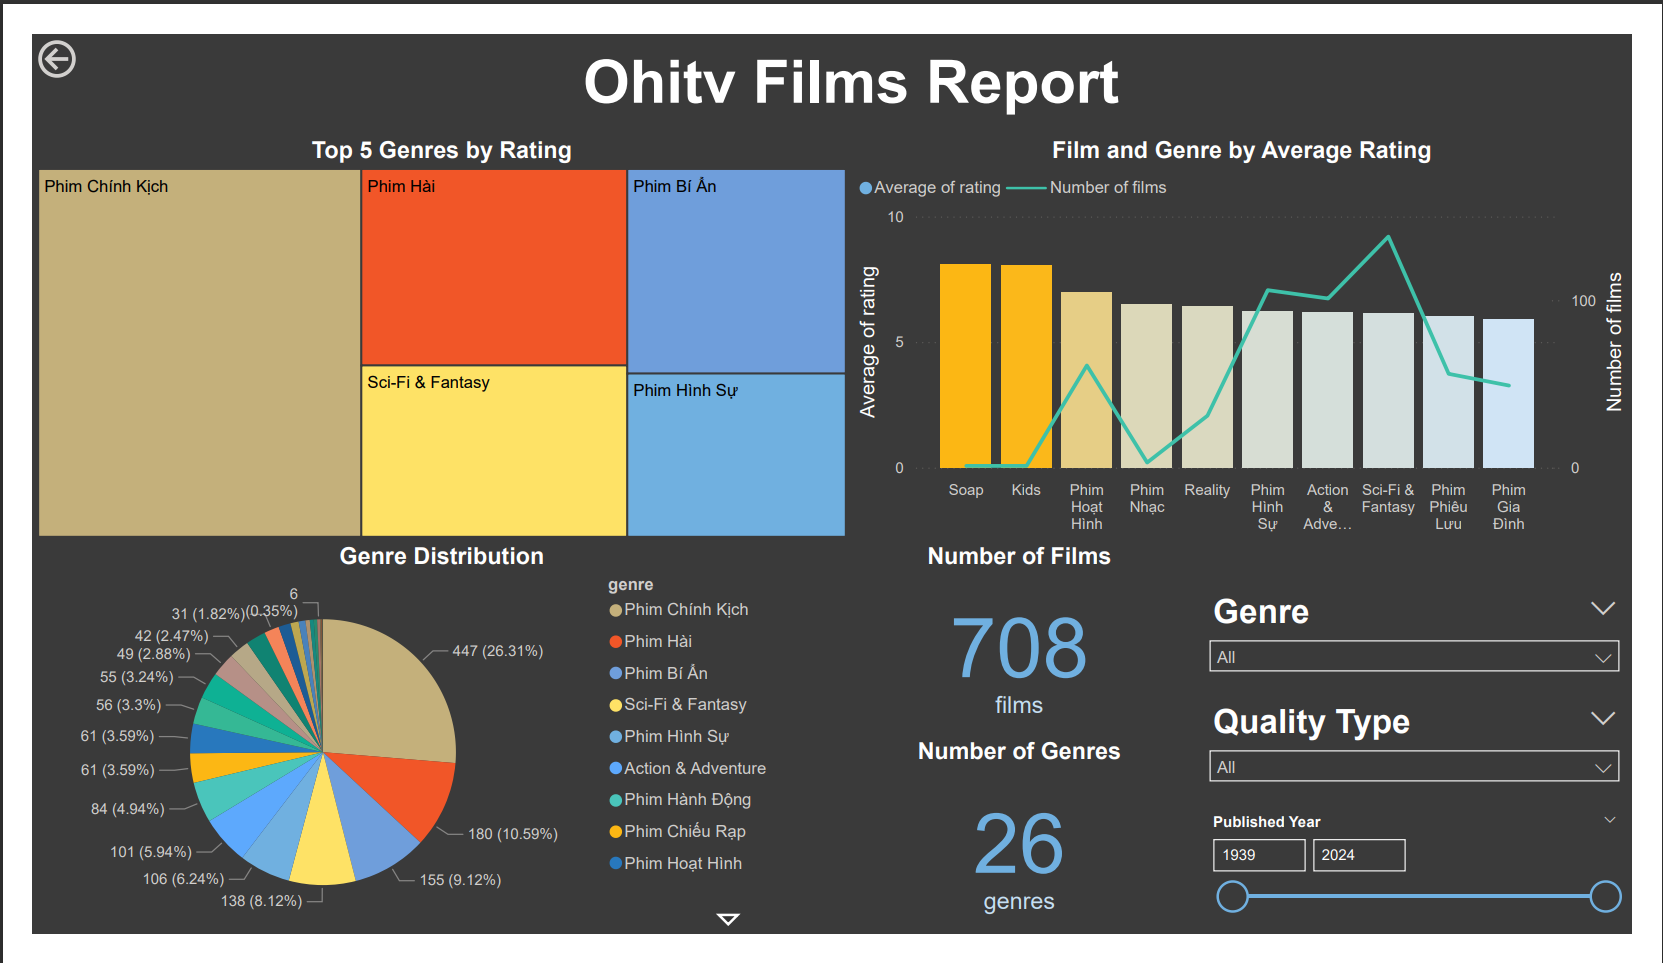

The dashboard page shown, as its layout file describes it:
{"tool":"powerbi","page":{"name":"Page 1","canvas":[1280,720],"ordinal":0},"visuals":[{"type":"treemap","title":"Top 5 Genres by Rating","fields":{"Group":["public ohitv_request.genre"],"Values":["Sum(public ohitv_request.rating)"]},"box":[0,82,656.3,324.5],"z":0},{"type":"pieChart","title":"Genre Distribution","fields":{"Category":["public ohitv_request.genre"],"Y":["CountNonNull(public ohitv_request.genre)"]},"box":[0,406.6,640.6,313.7],"z":1000},{"type":"card","title":"Number of Films","fields":{"Values":["Count(public ohitv_request.title)"]},"box":[656,407.1,267.9,156],"z":2000},{"type":"lineStackedColumnComboChart","title":"Film and Genre by Average Rating","fields":{"Y":["Avg(public ohitv_request.rating)"],"Category":["public ohitv_request.genre"],"Y2":["CountNonNull(public ohitv_request.title)"]},"box":[656,82.1,623.8,325],"z":3000},{"type":"card","title":"Number of Genres","fields":{"Values":["Count(public ohitv_request.genre)"]},"box":[656,563.1,267.9,157.1],"z":4000},{"type":"textbox","box":[116.7,6,1077.4,69],"z":5000},{"type":"slicer","fields":{"Values":["public ohitv_request.genre"]},"box":[932.1,441.7,347.6,88.1],"z":6000},{"type":"actionButton","box":[0,0,100,40],"z":7000},{"type":"slicer","fields":{"Values":["public ohitv_request.quality"]},"box":[932.1,529.8,347.6,88.1],"z":8000},{"type":"slicer","fields":{"Values":["public ohitv_request.date.Variation.Date Hierarchy.Year"]},"box":[932.1,617.9,347.6,88.1],"z":9000}]}

Visuals, with their boxes in screenshot pixels (x1, y1, x2, y2), scaled from the page's 1280x720 canvas onto the 1663x963 screenshot:
"Top 5 Genres by Rating" treemap: <box>0,110,853,544</box>
"Genre Distribution" pieChart: <box>0,544,832,962</box>
"Number of Films" card: <box>852,544,1200,753</box>
"Film and Genre by Average Rating" lineStackedColumnComboChart: <box>852,110,1662,544</box>
"Number of Genres" card: <box>852,753,1200,962</box>
textbox: <box>152,8,1551,100</box>
slicer - public ohitv_request.genre: <box>1211,591,1662,709</box>
actionButton: <box>0,0,130,54</box>
slicer - public ohitv_request.quality: <box>1211,709,1662,826</box>
slicer - public ohitv_request.date.Variation.Date Hierarchy.Year: <box>1211,826,1662,944</box>
